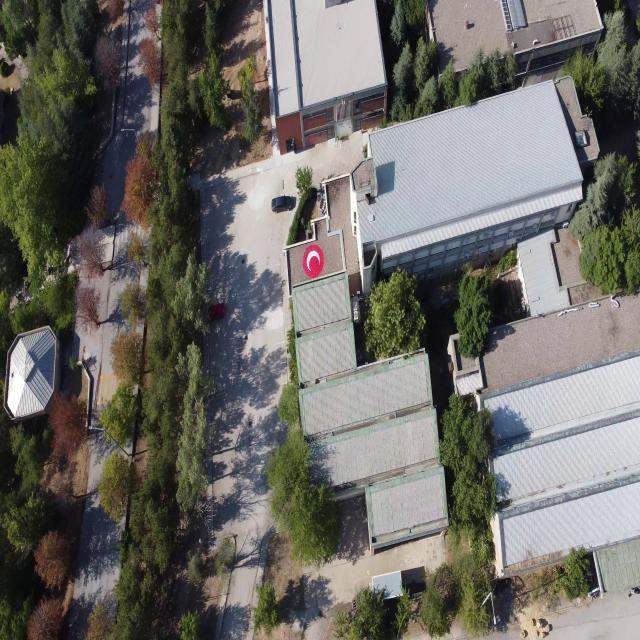vehicle: (302, 244, 324, 278), (271, 195, 294, 212), (208, 302, 225, 320)
